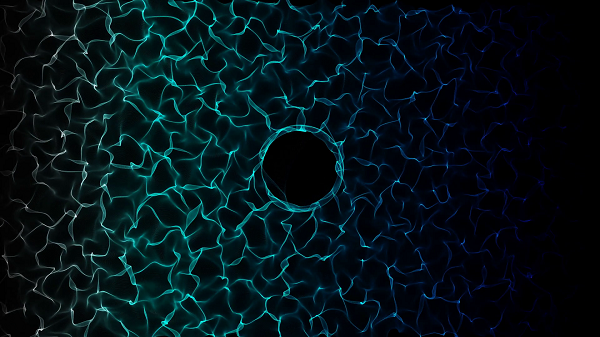

This screenshot's page, from the dashboard's own definition file:
{"tool":"powerbi","page":{"name":"map","canvas":[1280,720],"ordinal":1},"visuals":[{"type":"pythonVisual","fields":{"Values":["netdf.from","netdf.to"]},"box":[8,0,1272,704],"z":1}]}

Visuals, with their boxes in screenshot pixels (x1, y1, x2, y2), scaled from the page's 1280x720 canvas onto the 600x337 screenshot:
pythonVisual - netdf.from x netdf.to: bbox=(4, 0, 599, 330)
